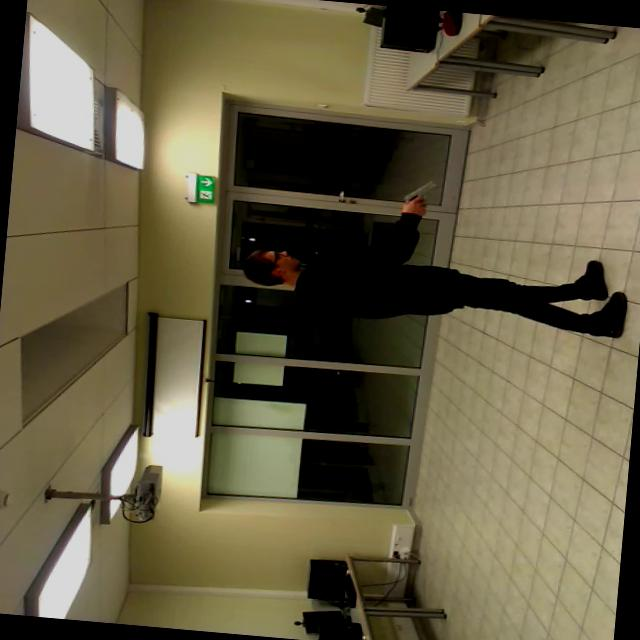handgun: (396, 172, 442, 208)
